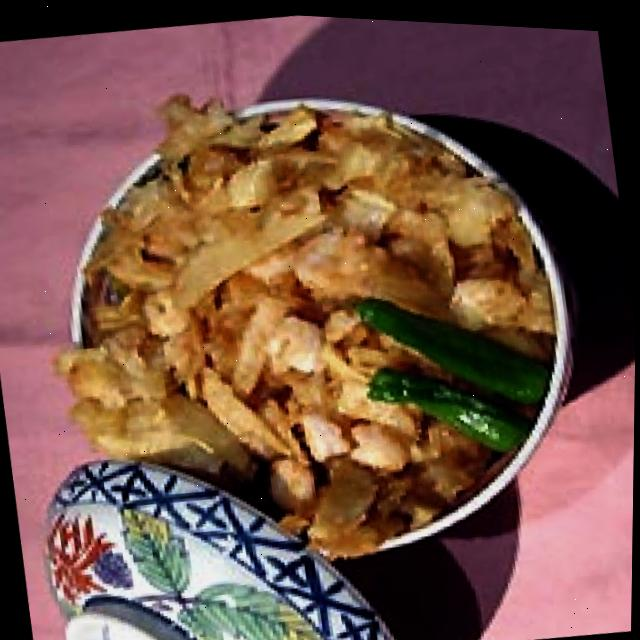熟制海鲜: (0, 20, 620, 621)
